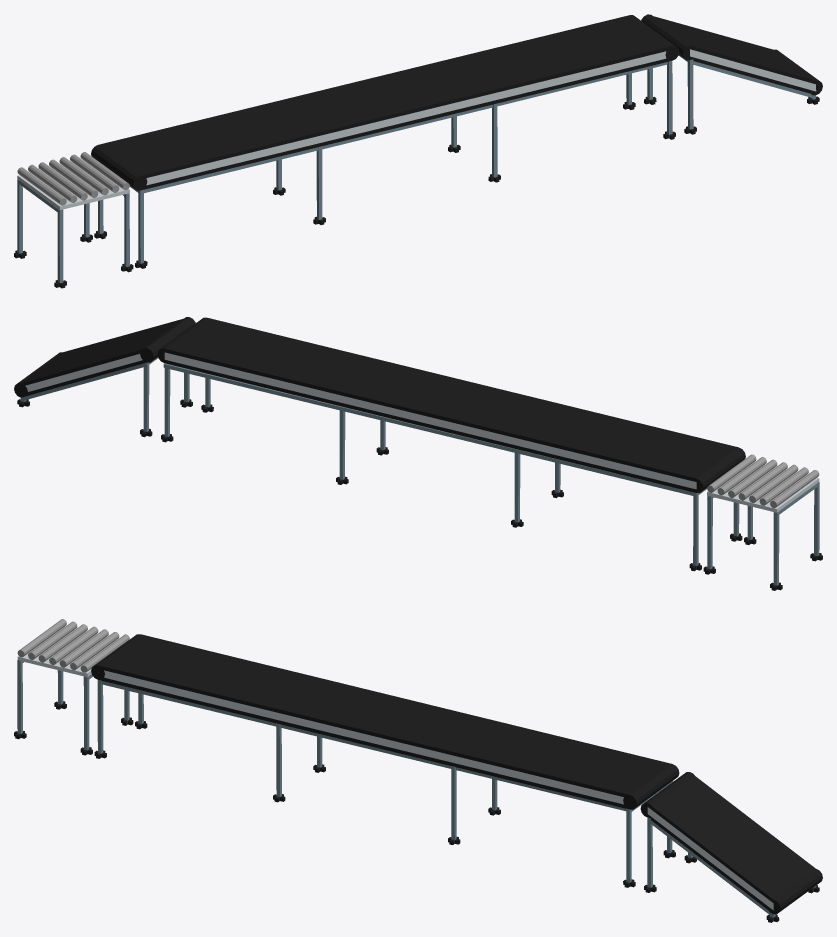
3 views of the same model, one above another, from view 1: azimuth 30°, elevation 25°; view 2: azimuth 150°, elevation 25°; view 3: azimuth 330°, elevation 25° (orthographic).
Parts seen in each view (by area): view 1: mesh_512570650, mesh_161396369, mesh_274748806, mesh_160355870, mesh_810781124, mesh_682253249, mesh_848837919, mesh_1508755916, mesh_1540390198, mesh_699426358, mesh_1213219495, mesh_224266847; view 2: mesh_512570650, mesh_161396369, mesh_274748806, mesh_37982561, mesh_160355870, mesh_848837919, mesh_682253249, mesh_1508755916, mesh_1540390198, mesh_1566753053, mesh_699426358; view 3: mesh_512570650, mesh_274748806, mesh_161396369, mesh_160355870, mesh_810781124, mesh_682253249, mesh_884165777, mesh_1548458748, mesh_848837919, mesh_1540390198.
Part boxes in pixels (x1,y1,x2,y2): mesh_512570650: [98, 15, 671, 177]; mesh_161396369: [146, 51, 666, 185]; mesh_274748806: [654, 16, 815, 84]; mesh_160355870: [140, 57, 672, 190]; mesh_810781124: [144, 62, 667, 193]; mesh_682253249: [690, 49, 816, 91]; mesh_848837919: [17, 159, 129, 209]; mesh_1508755916: [91, 145, 147, 190]; mesh_1540390198: [641, 14, 694, 59]; mesh_699426358: [690, 56, 815, 94]; mesh_1213219495: [687, 60, 814, 97]; mesh_224266847: [57, 209, 63, 283]; mesh_512570650: [164, 317, 738, 481]; mesh_161396369: [164, 352, 696, 489]; mesh_274748806: [21, 318, 183, 385]; mesh_37982561: [163, 363, 696, 496]; mesh_160355870: [166, 361, 695, 492]; mesh_848837919: [707, 462, 819, 512]; mesh_682253249: [25, 354, 142, 391]; mesh_1508755916: [691, 447, 745, 492]; mesh_1540390198: [140, 317, 195, 362]; mesh_1566753053: [20, 362, 146, 401]; mesh_699426358: [27, 360, 146, 395]; mesh_512570650: [98, 634, 671, 796]; mesh_274748806: [647, 776, 815, 902]; mesh_161396369: [104, 670, 623, 804]; mesh_160355870: [98, 676, 629, 809]; mesh_810781124: [101, 680, 632, 812]; mesh_682253249: [647, 807, 773, 910]; mesh_884165777: [623, 764, 679, 809]; mesh_1548458748: [769, 869, 822, 914]; mesh_848837919: [17, 627, 116, 677]; mesh_1540390198: [640, 772, 694, 817].
Bounding box in the file's own units: 219 × 24.99 × 23.04.
